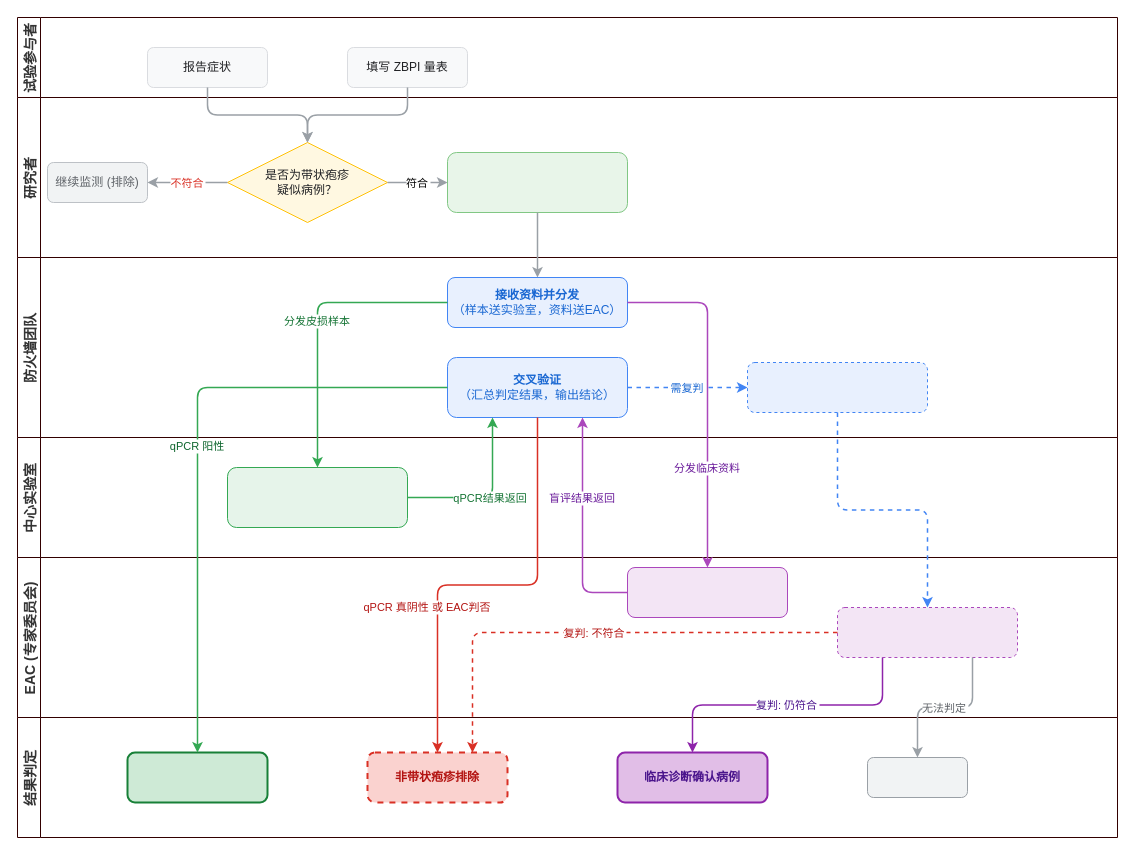
Some shapes in this 1135 by 855 pixel diagram are drawn without their labels. The centre of each missing label's shape, as x and y in pixels:
"EAC 第一阶段判定 （盲评）" belongs at pixel 707 592.
"EAC 第二阶段复判 （结合客观结果重新审视）" belongs at pixel 927 632.
"qPCR 检测 （输出:阳性/真阴性/无法判定）" belongs at pixel 317 497.
"不能确诊" belongs at pixel 917 777.
"实验室确诊病例" belongs at pixel 197 777.
"汇总复判需求 （qPCR无法判定且EAC判是）" belongs at pixel 837 387.
"疑似病例 收集调查表、皮损样本、 照片、病历资料、ZBPI" belongs at pixel 537 182.
